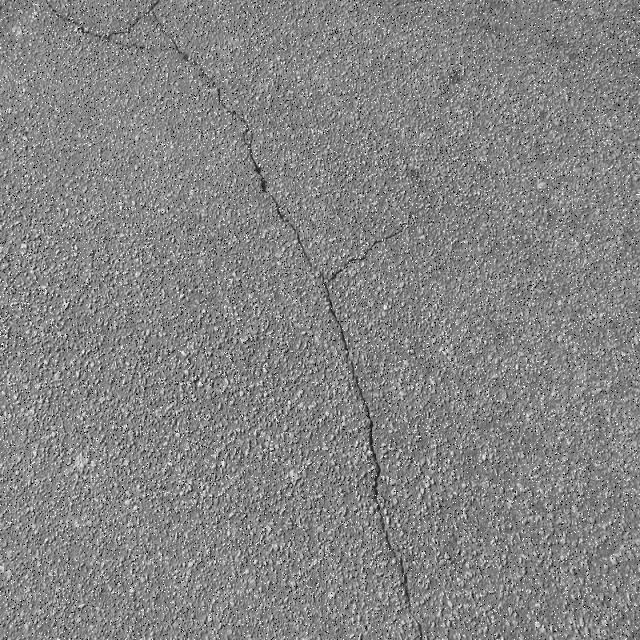moderate crack: (72, 1, 256, 132), (360, 444, 424, 636)
severe crack: (35, 7, 417, 613), (443, 254, 640, 630), (384, 6, 640, 281), (9, 180, 165, 338), (318, 268, 386, 492), (205, 75, 287, 222), (324, 216, 412, 280), (316, 258, 350, 291), (393, 563, 416, 611), (362, 432, 381, 482), (404, 607, 428, 640), (120, 36, 152, 52), (213, 84, 228, 113), (173, 46, 192, 64)
